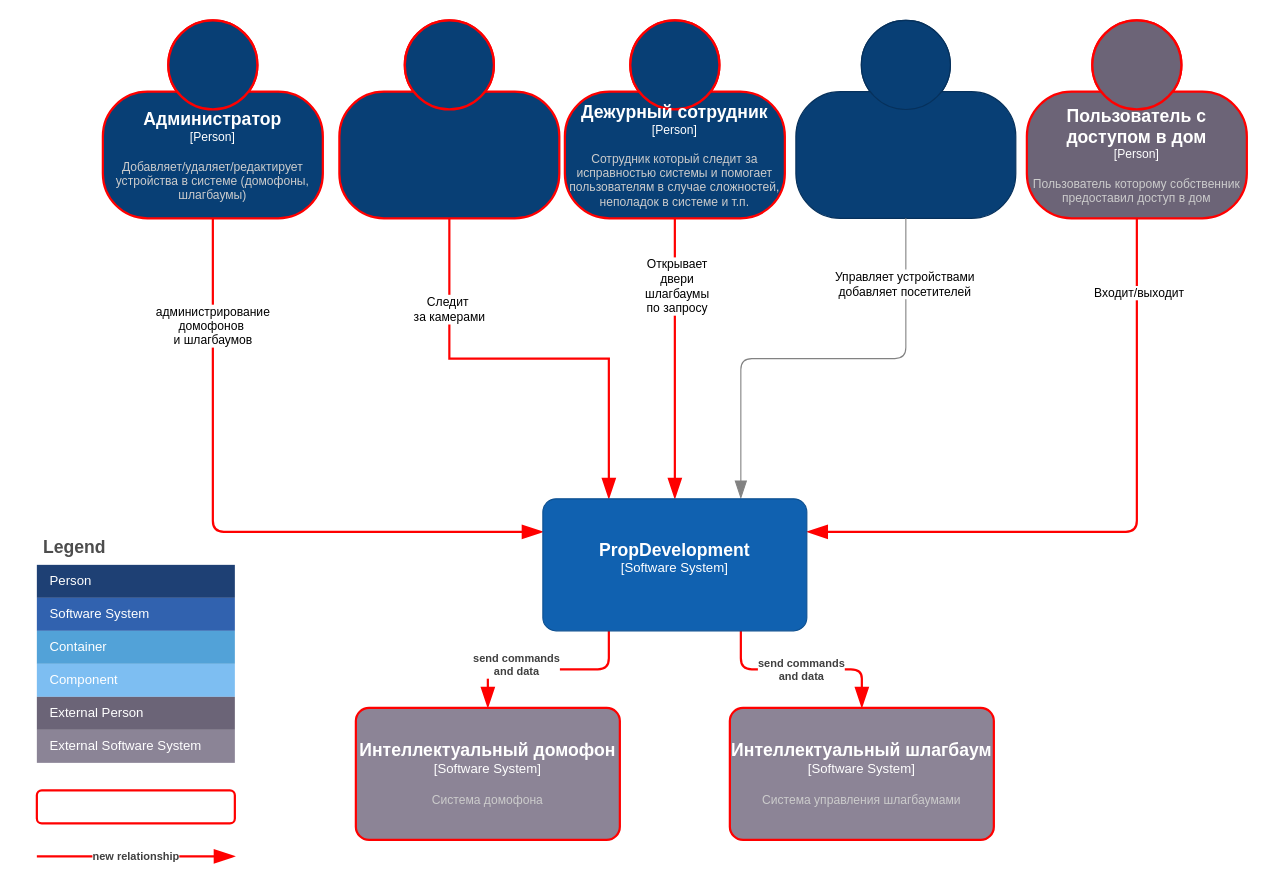
This 1266x893 diagram has some shape labels left out. The centre of each missing label's shape, as x and y in pixels:
"New module/role" belongs at pixel 135 806.
"Охранник [Person] Следит за порядком, выявляет нарушения" belongs at pixel 449 119.
"Собственник [Person] Владелец объекта недвижимости" belongs at pixel 905 118.
